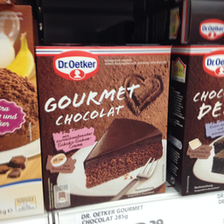cake: (35, 43, 173, 212), (171, 44, 224, 196)
